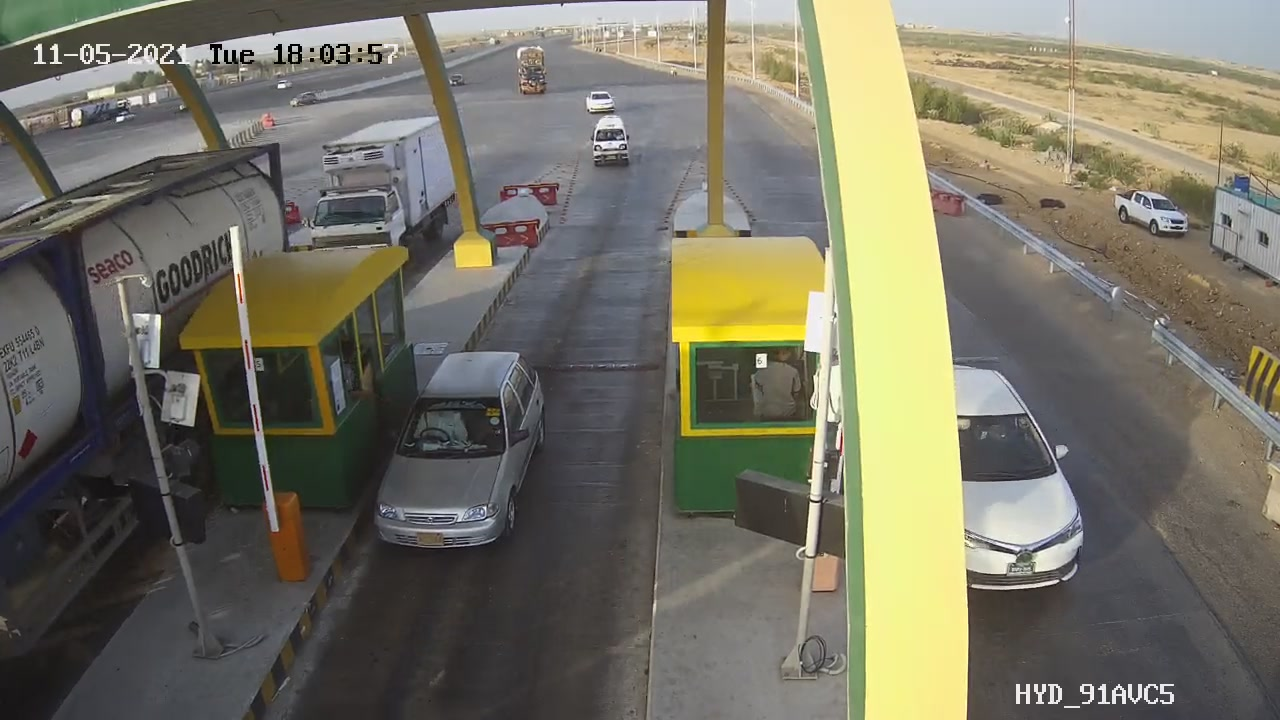F1: (359, 326, 570, 579)
